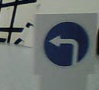left: (44, 22, 90, 66)
